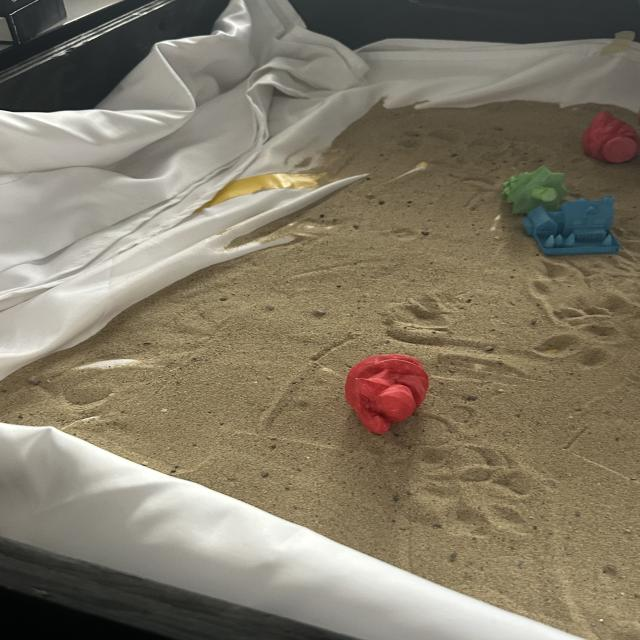fire: (342, 351, 431, 435), (578, 111, 640, 167)
house: (519, 193, 622, 257)
tree: (500, 167, 570, 207)
